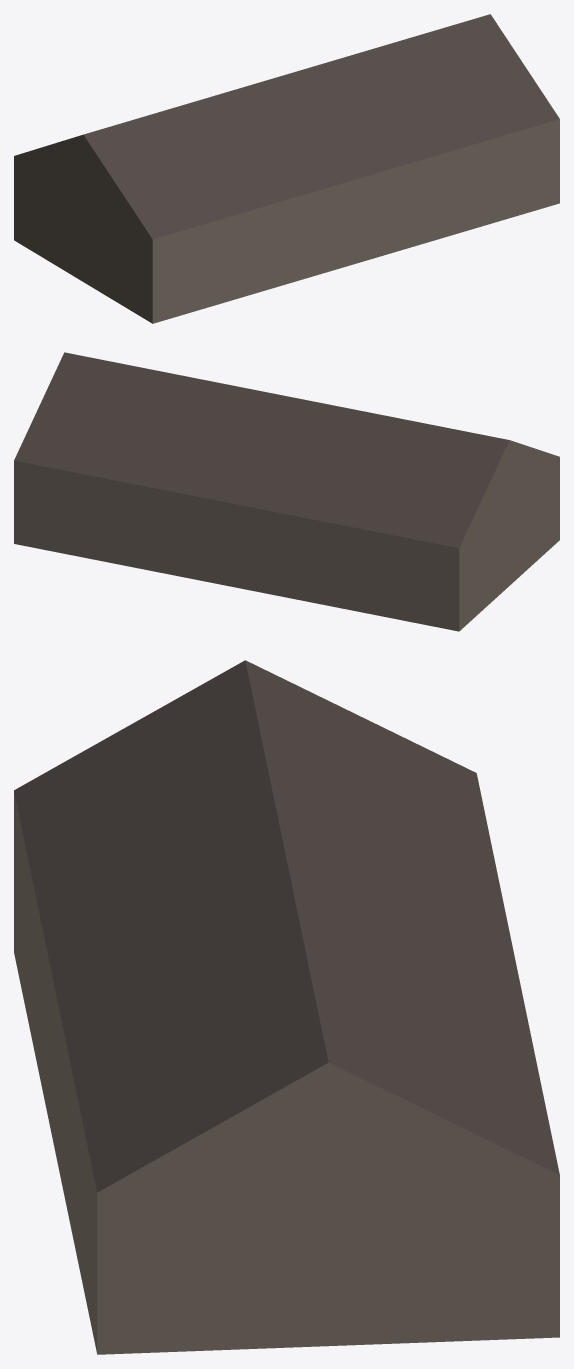
3 renders of one model, top to bottom at view 1: azimuth 30°, elevation 25°; view 2: azimuth 150°, elevation 25°; view 3: azimuth 270°, elevation 25°, orthographic. The views are drawn at different scales.
Visible parts, largest first — view 1: HP-w858807486; view 2: HP-w858807486; view 3: HP-w858807486.
Part boxes in pixels (left/top/right/bottom): HP-w858807486: left=14, top=14, right=559, bottom=323; HP-w858807486: left=14, top=352, right=559, bottom=631; HP-w858807486: left=14, top=660, right=559, bottom=1354.
Size of the model in its own units: 16.66 by 5.25 by 9.16.
